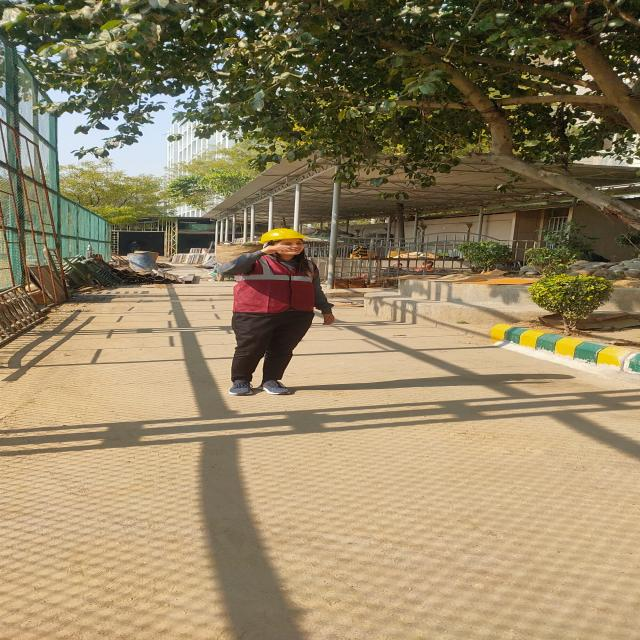safe: (221, 228, 331, 394)
